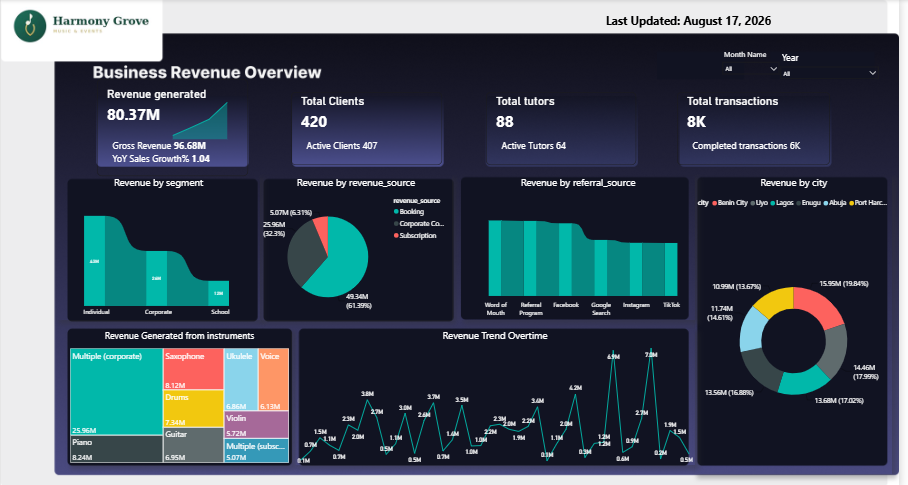

What the dashboard file says about the page in this screenshot:
{"tool":"powerbi","page":{"name":"Business Overview","canvas":[1900,1000],"ordinal":4},"visuals":[{"type":"cardVisual","fields":{"Data":["_Measure (3).Total transactions"]},"box":[1064.3,122.4,251,201.2],"z":0},{"type":"cardVisual","fields":{"Data":["_Measure (3).Total Revenue"]},"box":[33.2,122.4,263.5,201.2],"z":1000},{"type":"cardVisual","fields":{"Data":["_Measure (3).Total Clients"]},"box":[373.4,122.4,265.6,203.3],"z":2000},{"type":"lineChart","title":"Revenue Trend Overtime ( 2022 - 2025)","fields":{"Y":["_Measure (3).Total Revenue"],"Category":["DateTable.Month Name","DateTable.Year"]},"box":[593.4,697.1,1286.3,280.1],"z":3000},{"type":"ribbonChart","title":"Revenue by segment","fields":{"Category":["clients.segment"],"Y":["_Measure (3).Total Revenue"]},"box":[33.2,375.5,439.8,300.8],"z":4000},{"type":"treemap","title":"Revenue Generated from instruments","fields":{"Group":["payments.Instruments"],"Values":["_Measure (3).Total Revenue"]},"box":[31.1,686.7,529,300.8],"z":5000},{"type":"donutChart","title":"Revenue by city","fields":{"Category":["clients.city"],"Y":["_Measures.Total Revenue"]},"box":[1446.1,375.5,433.6,300.8],"z":6000},{"type":"pieChart","title":" Revenue by revenue_source","fields":{"Y":["_Measure (3).Total Revenue"],"Category":["payments.revenue_source"]},"box":[506.2,375.5,408.6,300.3],"z":7000},{"type":"ribbonChart","title":" Revenue by referral_source","fields":{"Y":["_Measure (3).Total Revenue"],"Category":["clients.referral_source"]},"box":[931.5,375.5,500,300.8],"z":8000},{"type":"cardVisual","fields":{"Data":["_Measure (3).Total tutors"]},"box":[724.1,122.4,269.7,201.2],"z":9000},{"type":"slicer","fields":{"Values":["payments.Lesson type"]},"box":[1446.1,122.4,180.5,101.7],"z":10000},{"type":"slicer","fields":{"Values":["DateTable.Year"]},"box":[1649.4,122.4,180.5,99.6],"z":11000},{"type":"cardVisual","fields":{"Data":["_Measures.Last Refreshed"]},"box":[1190.9,0,564.3,99.6],"z":12000}]}

Visuals, with their boxes in screenshot pixels (x1, y1, x2, y2), scaled from the page's 1900x1000 canvas onto the 908x485 screenshot:
cardVisual - _Measure (3).Total transactions: locate(509, 59, 629, 157)
cardVisual - _Measure (3).Total Revenue: locate(16, 59, 142, 157)
cardVisual - _Measure (3).Total Clients: locate(178, 59, 305, 158)
"Revenue Trend Overtime ( 2022 - 2025)" lineChart: locate(284, 338, 898, 474)
"Revenue by segment" ribbonChart: locate(16, 182, 226, 328)
"Revenue Generated from instruments" treemap: locate(15, 333, 268, 479)
"Revenue by city" donutChart: locate(691, 182, 898, 328)
" Revenue by revenue_source" pieChart: locate(242, 182, 437, 328)
" Revenue by referral_source" ribbonChart: locate(445, 182, 684, 328)
cardVisual - _Measure (3).Total tutors: locate(346, 59, 475, 157)
slicer - payments.Lesson type: locate(691, 59, 777, 109)
slicer - DateTable.Year: locate(788, 59, 874, 108)
cardVisual - _Measures.Last Refreshed: locate(569, 0, 839, 48)
